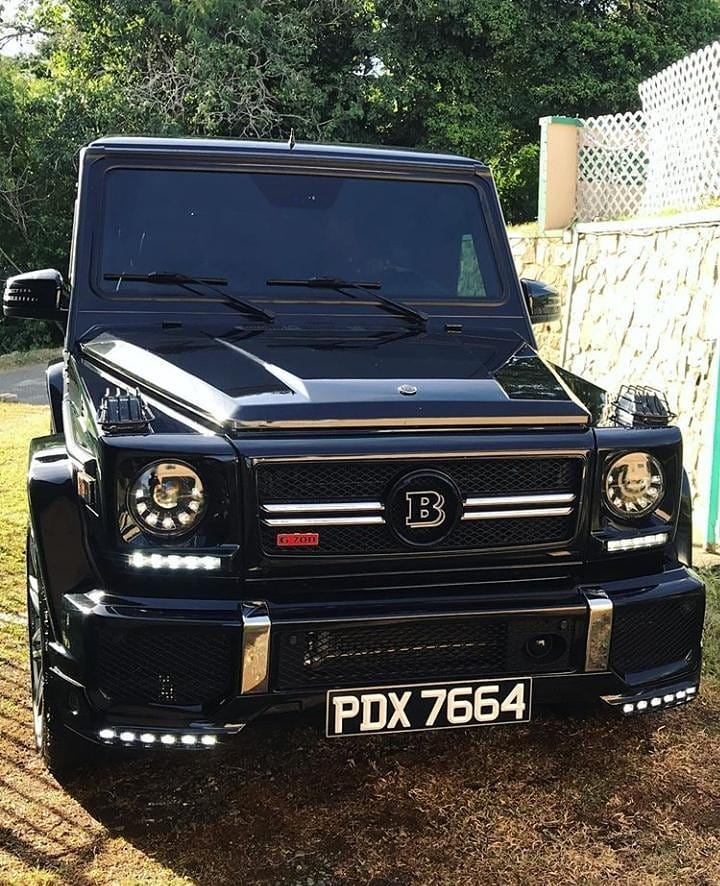License-Plate: (325, 692, 527, 736)
